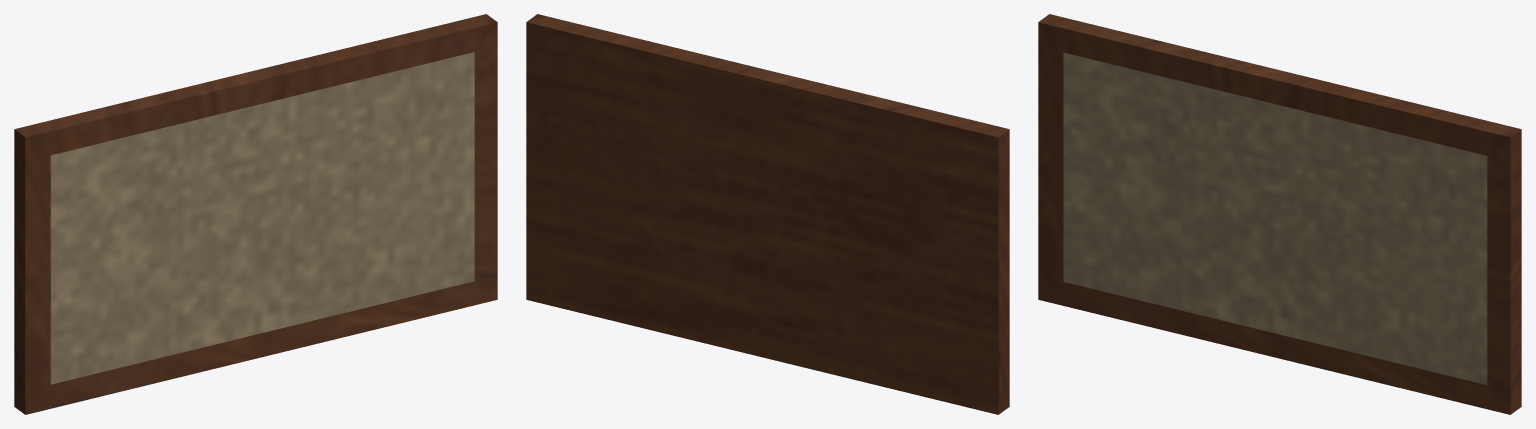
File: korkova_tabule.fbx
The picture shows the model from 3 angles, left to right: view 1: azimuth 30°, elevation 25°; view 2: azimuth 150°, elevation 25°; view 3: azimuth 330°, elevation 25°; orthographic projection.
Visible parts, largest first — view 1: korkova tabule; view 2: korkova tabule; view 3: korkova tabule.
Boxes of the visible parts, x1,y1,x2,y2 form: korkova tabule: (14, 14, 497, 414); korkova tabule: (526, 14, 1009, 414); korkova tabule: (1038, 14, 1521, 414).
Bounding box in the file's own units: 116 × 64.87 × 4.77.
